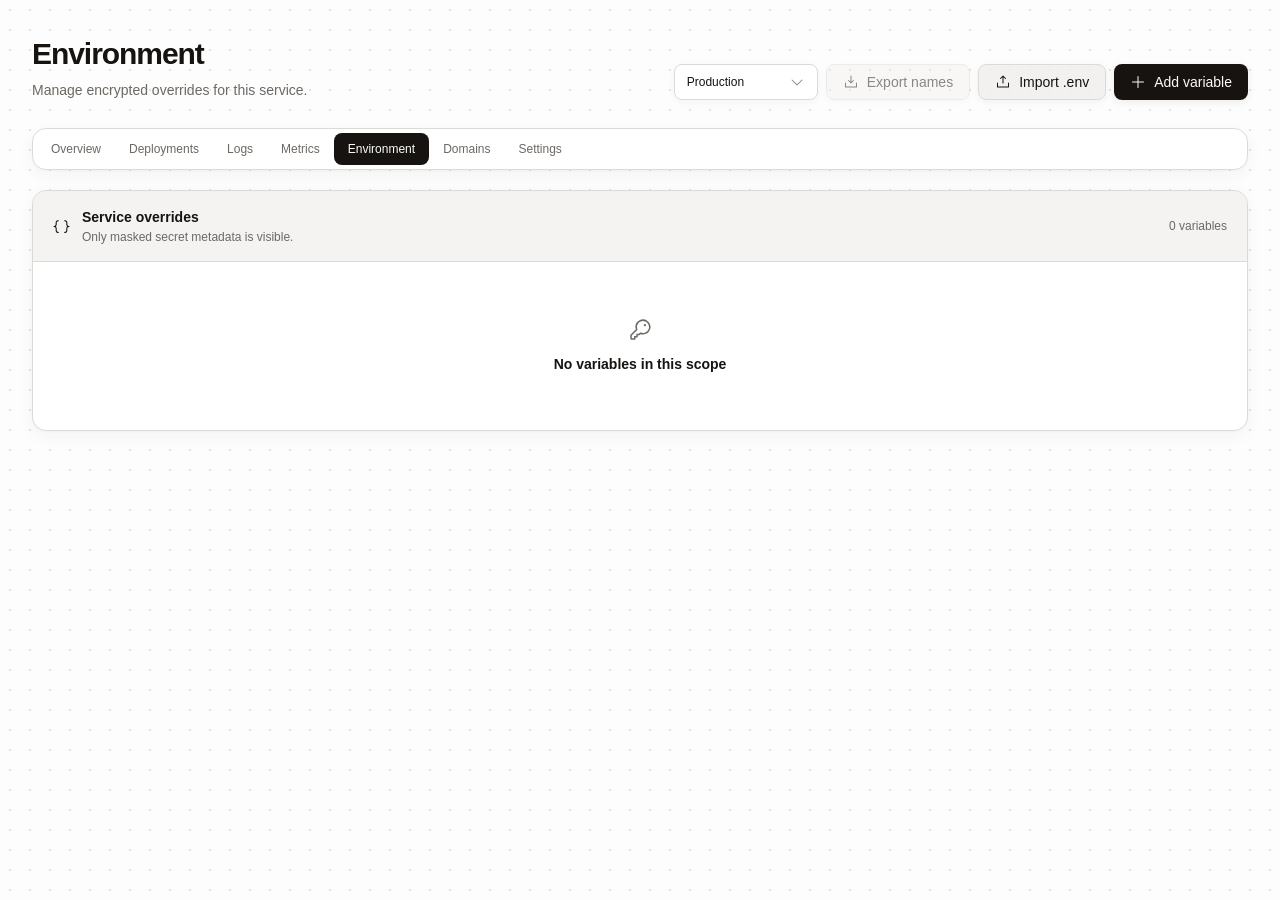
Test case: operations screens › renders an empty variable scope and creates an encrypted service override
This screenshot has width=1280, height=900.
expect the text "No variables in this scope" is shown: met, box x1=554 y1=356 x2=726 y2=372
Click the button "Add variable" at coordinates (1181, 82), box x1=1114 y1=64 x2=1248 y2=100
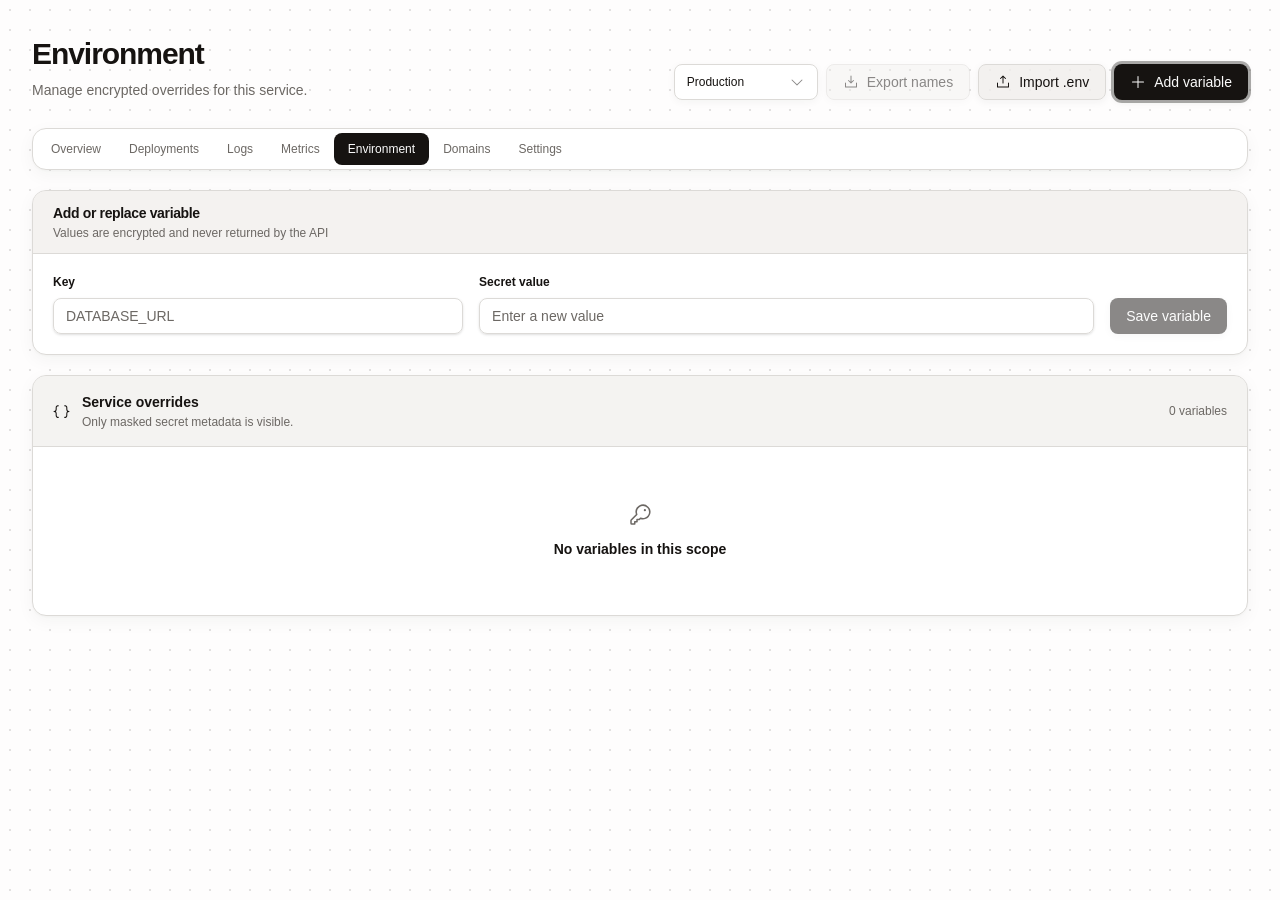
Type "database_url" into the field labelled "Key" at coordinates (258, 316), box x1=53 y1=298 x2=463 y2=334
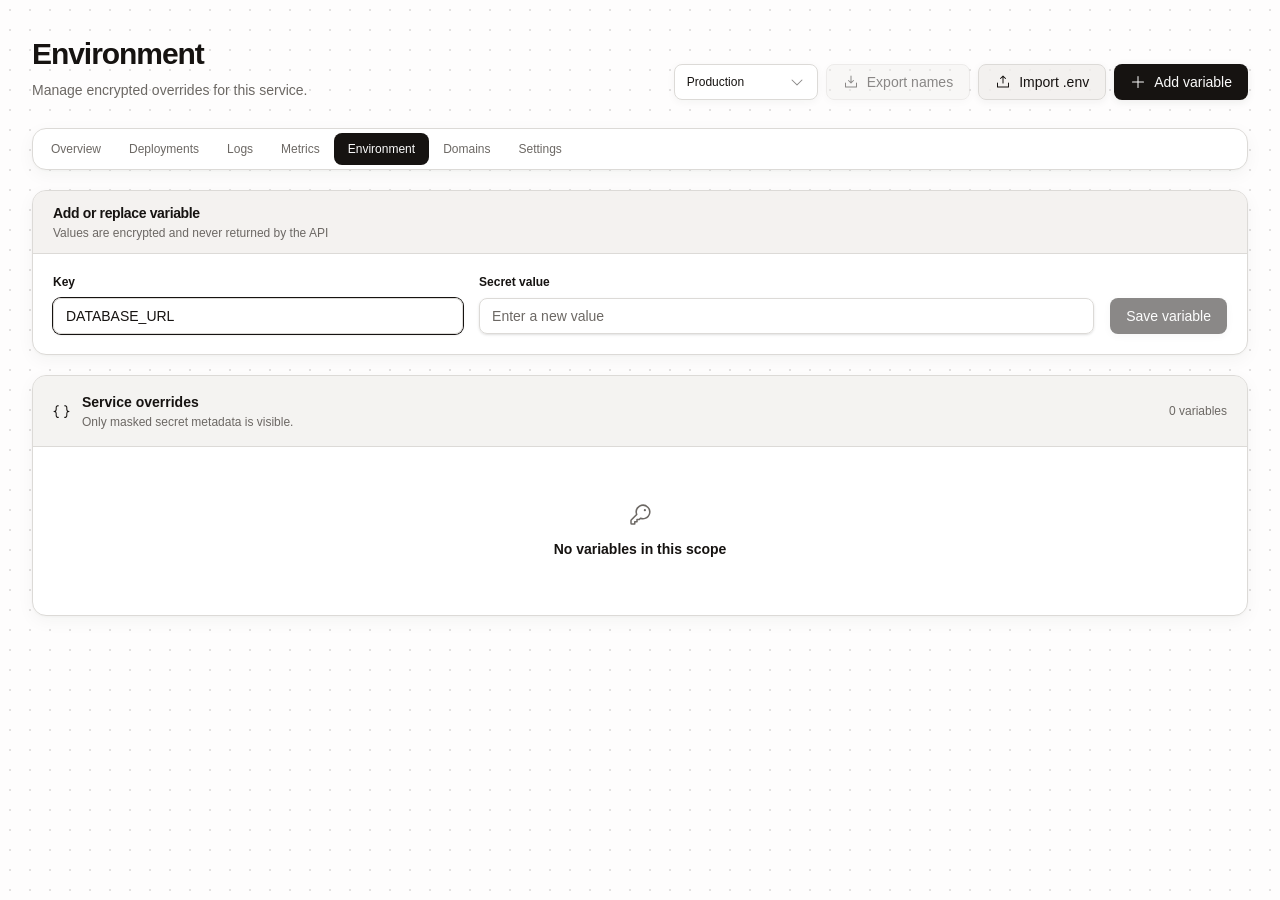
Type "postgres://prod" into the password field labelled "Secret value" at coordinates (787, 316), box x1=479 y1=298 x2=1094 y2=334
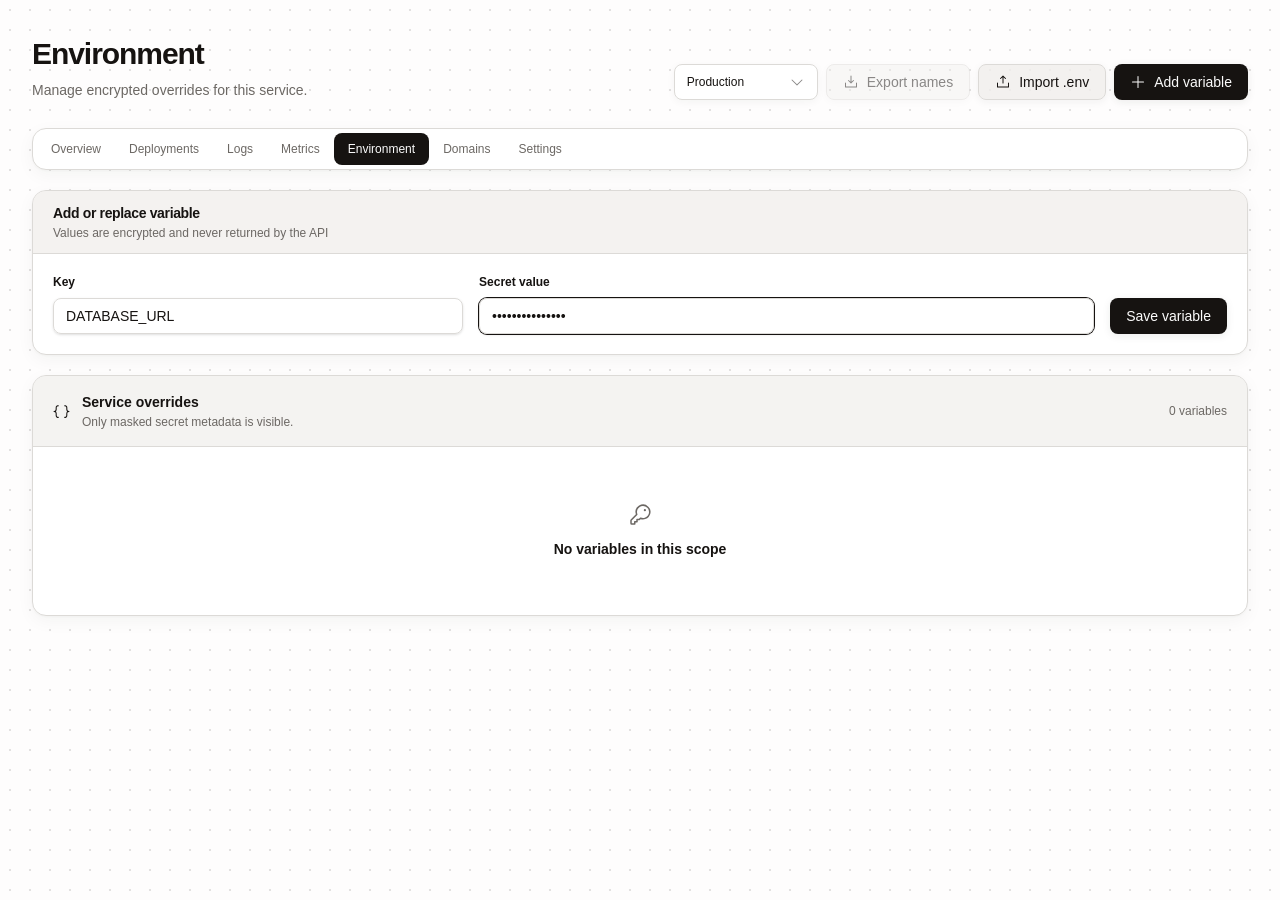
Click the button "Save variable" at coordinates (1169, 316), box x1=1110 y1=298 x2=1227 y2=334
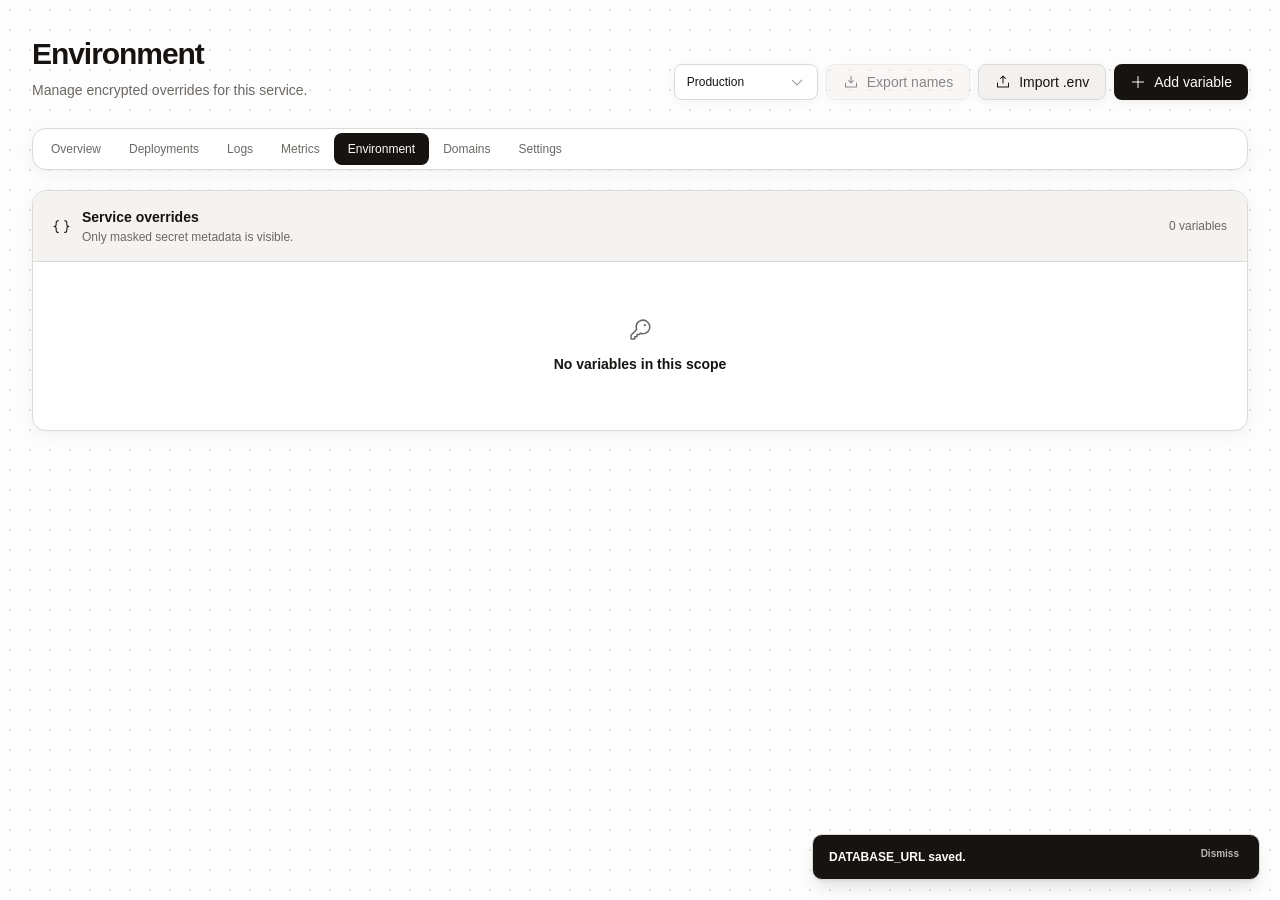
expect the text "DATABASE_URL saved." is shown: met, box x1=829 y1=850 x2=966 y2=864
